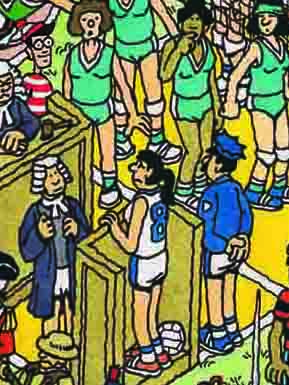waldo: (17, 19, 55, 68)
